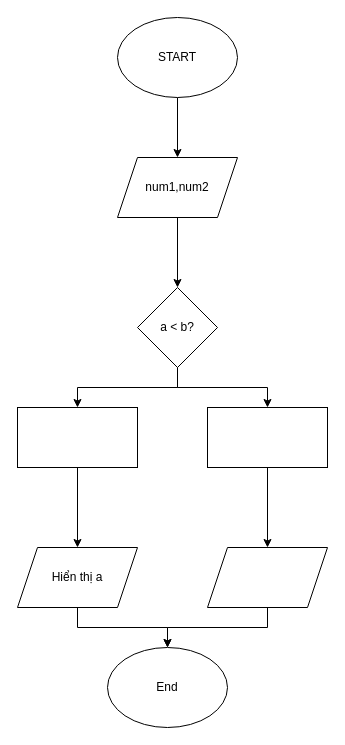
Some shapes in this 345 by 745 pixel diagram are drawn without their labels. Each missing label, with the centre of its shape:
Hiển thị b: the point at 267,577
Nhỏ hơn = a: the point at 77,437
Nhỏ hơn = b: the point at 267,437
